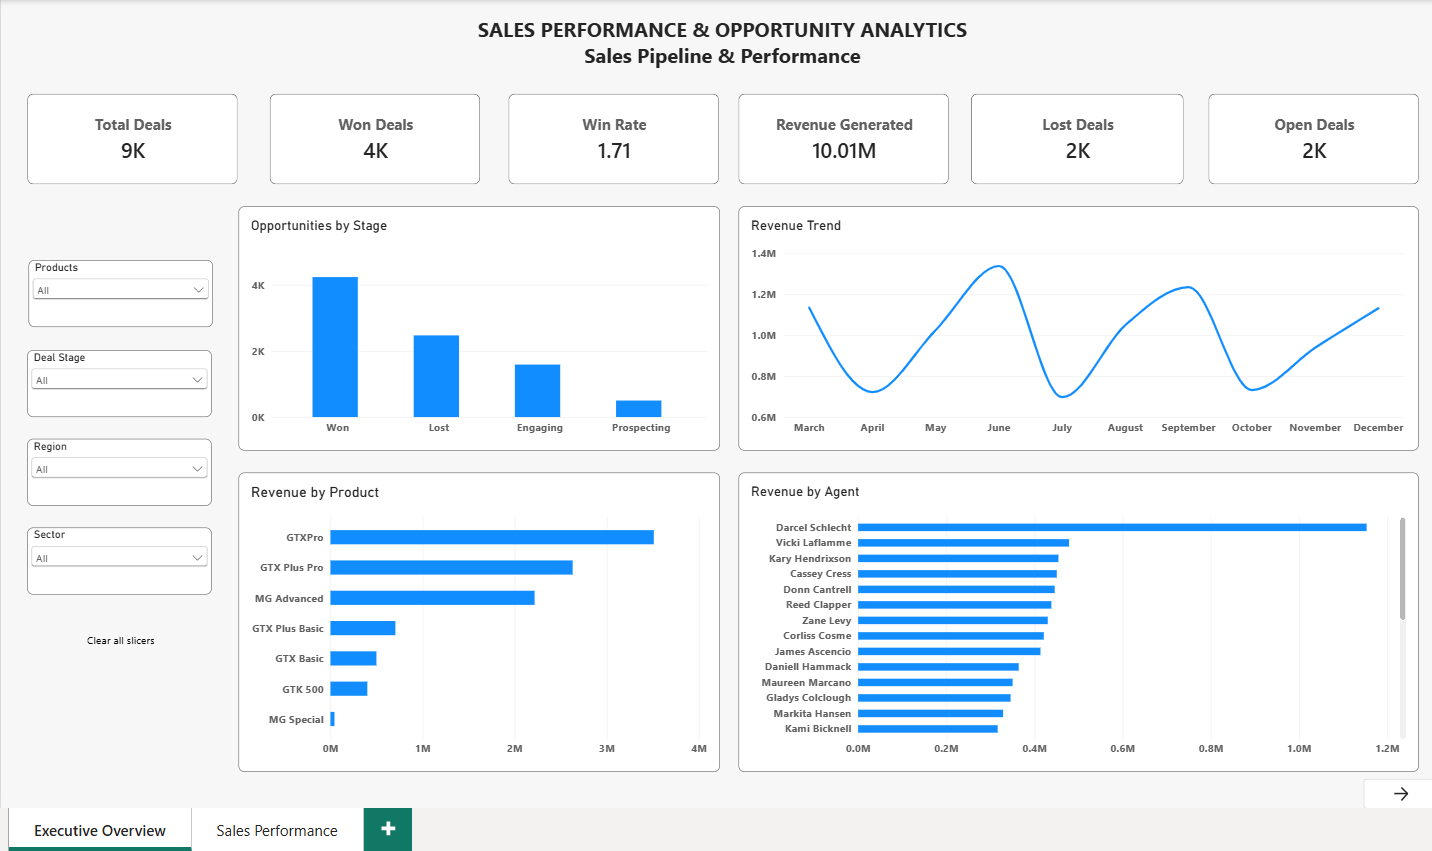

Layout of this report page (visuals, bound fields, positions):
{"tool":"powerbi","page":{"name":"Executive Overview","canvas":[1920,1080],"ordinal":0},"visuals":[{"type":"cardVisual","fields":{"Data":["Fact Table.Total Opportunities"]},"box":[35.2,124.8,281.6,121.6],"z":0},{"type":"cardVisual","fields":{"Data":["Fact Table.Won Opportunities"]},"box":[358.4,124.8,281.6,121.6],"z":1000},{"type":"cardVisual","fields":{"Data":["Fact Table.Win Rate"]},"box":[678.4,124.8,281.6,121.6],"z":2000},{"type":"cardVisual","fields":{"Data":["Fact Table.Won Revenue"]},"box":[985.6,124.8,281.6,121.6],"z":3000},{"type":"cardVisual","fields":{"Data":["Fact Table.Lost Opportunities"]},"box":[1296,124.8,284.8,121.6],"z":4000},{"type":"cardVisual","fields":{"Data":["Fact Table.Open Opportunities"]},"box":[1612.8,124.8,281.6,121.6],"z":5000},{"type":"columnChart","title":"Opportunities by Stage","fields":{"Category":["Fact Table.deal_stage"],"Y":["Fact Table.Total Opportunities"]},"box":[316.6,275.4,643.2,326.4],"z":6000},{"type":"lineChart","title":"Revenue Trend","fields":{"Category":["Fact Table.close_date.Variation.Date Hierarchy.Month"],"Y":["Fact Table.Won Revenue"]},"box":[985.7,275.4,908.8,326.4],"z":7000},{"type":"barChart","title":"Revenue by Product","fields":{"Category":["Fact Table.product"],"Y":["Fact Table.Won Revenue"]},"box":[316.6,630.6,643.2,400],"z":8000},{"type":"barChart","title":" Revenue by Agent","fields":{"Category":["Fact Table.sales_agent"],"Y":["Fact Table.Won Revenue"]},"box":[985.7,630.6,908.8,400],"z":9000},{"type":"slicer","fields":{"Values":["Fact Table.product"]},"box":[36,347.5,246.4,89.6],"z":10000},{"type":"slicer","fields":{"Values":["Fact Table.deal_stage"]},"box":[35.2,467.2,246.4,89.6],"z":11000},{"type":"slicer","fields":{"Values":["Sales/Agent.regional_office"]},"box":[35.2,585.6,246.4,89.6],"z":12000},{"type":"slicer","fields":{"Values":["Account.sector"]},"box":[35.2,704,246.4,89.6],"z":13000},{"type":"textbox","box":[0,20.6,1920,123.5],"z":15000},{"type":"actionButton","box":[59.7,830.6,200,50],"z":16000},{"type":"actionButton","box":[1819.6,1039.8,100,40],"z":17000}]}

Visuals, with their boxes on the page's 1920x1080 design canvas (x1, y1, x2, y2). These are canvas units, not pixel positions in the 1432x851 screenshot, which may show the page scaled, cropped or inside an application window:
cardVisual - Fact Table.Total Opportunities: x1=35 y1=125 x2=317 y2=246
cardVisual - Fact Table.Won Opportunities: x1=358 y1=125 x2=640 y2=246
cardVisual - Fact Table.Win Rate: x1=678 y1=125 x2=960 y2=246
cardVisual - Fact Table.Won Revenue: x1=986 y1=125 x2=1267 y2=246
cardVisual - Fact Table.Lost Opportunities: x1=1296 y1=125 x2=1581 y2=246
cardVisual - Fact Table.Open Opportunities: x1=1613 y1=125 x2=1894 y2=246
"Opportunities by Stage" columnChart: x1=317 y1=275 x2=960 y2=602
"Revenue Trend" lineChart: x1=986 y1=275 x2=1894 y2=602
"Revenue by Product" barChart: x1=317 y1=631 x2=960 y2=1031
" Revenue by Agent" barChart: x1=986 y1=631 x2=1894 y2=1031
slicer - Fact Table.product: x1=36 y1=348 x2=282 y2=437
slicer - Fact Table.deal_stage: x1=35 y1=467 x2=282 y2=557
slicer - Sales/Agent.regional_office: x1=35 y1=586 x2=282 y2=675
slicer - Account.sector: x1=35 y1=704 x2=282 y2=794
textbox: x1=0 y1=21 x2=1920 y2=144
actionButton: x1=60 y1=831 x2=260 y2=881
actionButton: x1=1820 y1=1040 x2=1920 y2=1080
